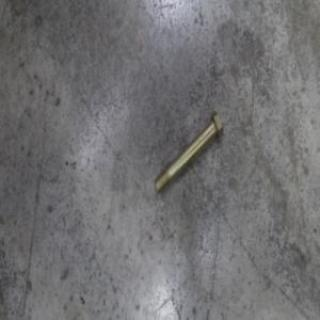Bolttrack_idkeyframe: (152, 108, 223, 195)
